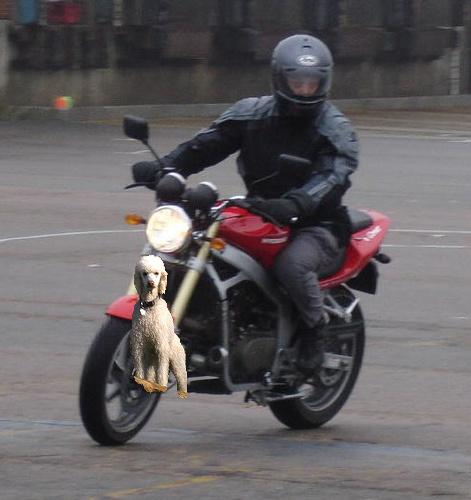tampered: (131, 256, 187, 398)
